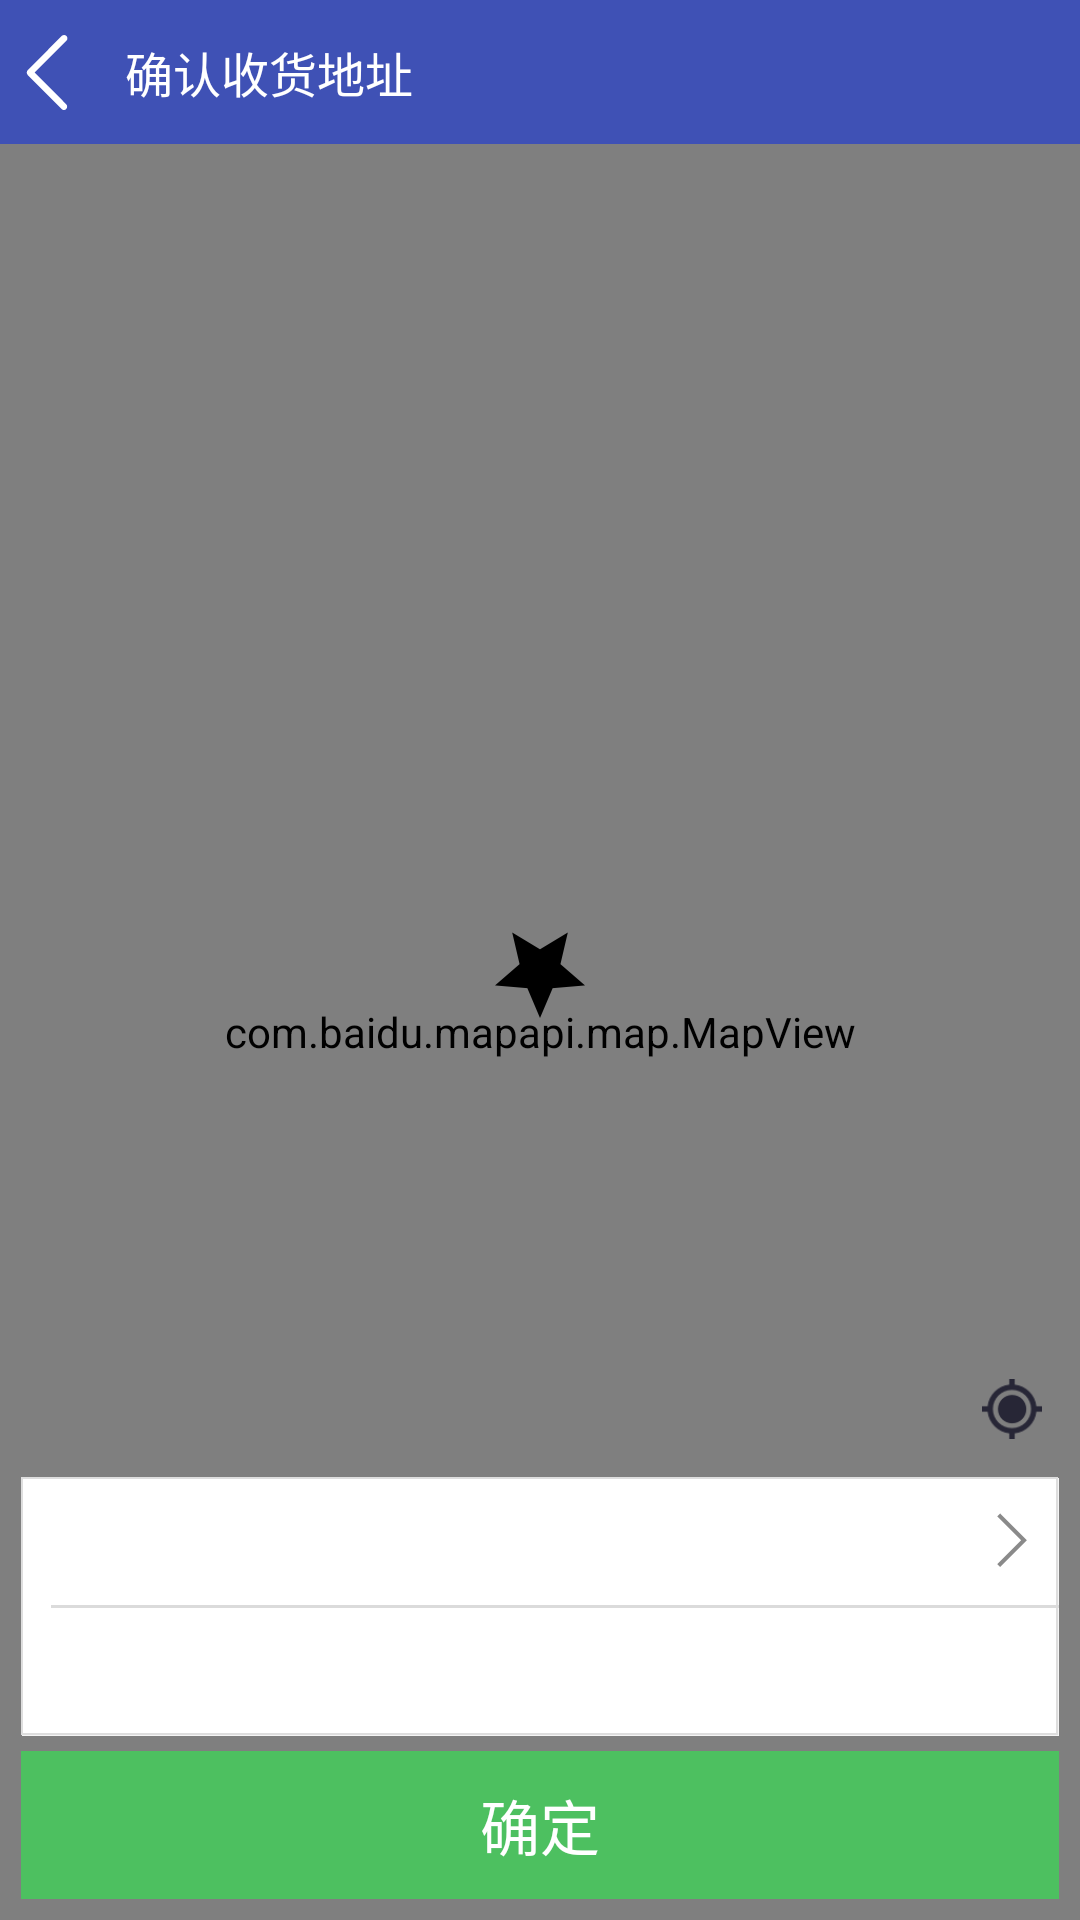

Icons on this 1080w x 1920h Android screen, each with the point to tap as point (x, y):
arrow left: point (47, 72)
arrow right: point (1012, 1540)
relocate: point (1012, 1409)
